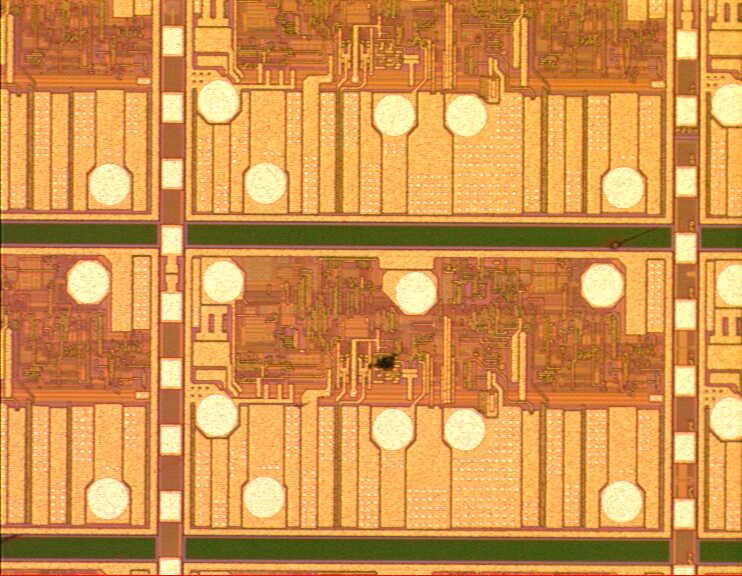SCRATCH: (351, 216, 668, 388)
